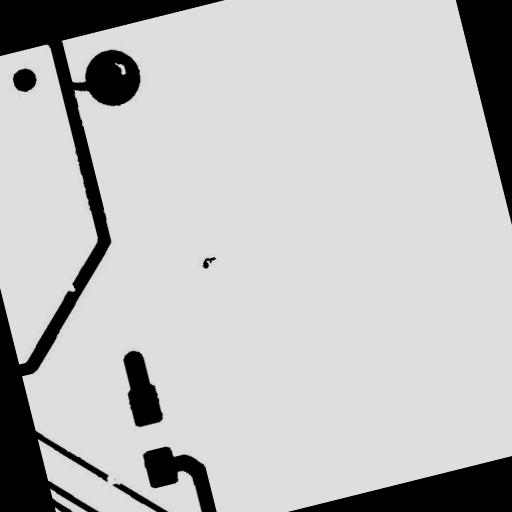copper: (192, 247, 226, 278)
mousebite: (54, 272, 84, 302)
open: (96, 463, 130, 496)
pin-hole: (105, 52, 135, 86)
short: (58, 68, 100, 104)
